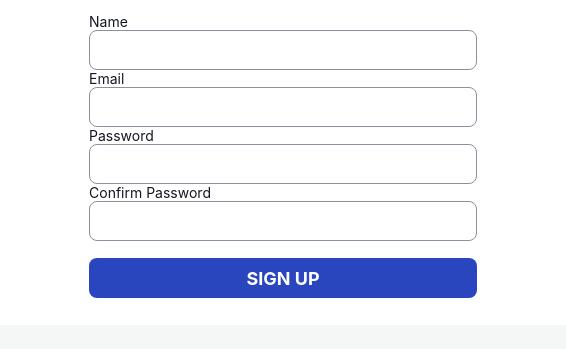
SignUpForm Testing... › When user entered anything...
Click the button.
click(283, 278)  # box [89,258,477,298]
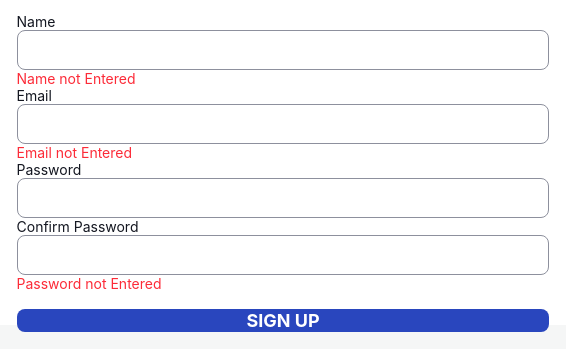
Check: the text "Name not Entered" is shown, box [16,70,136,87]
Check: the text "Email not Entered" is shown, box [16,144,132,161]
Check: the text "Password not Entered" is shown, box [16,275,162,292]
